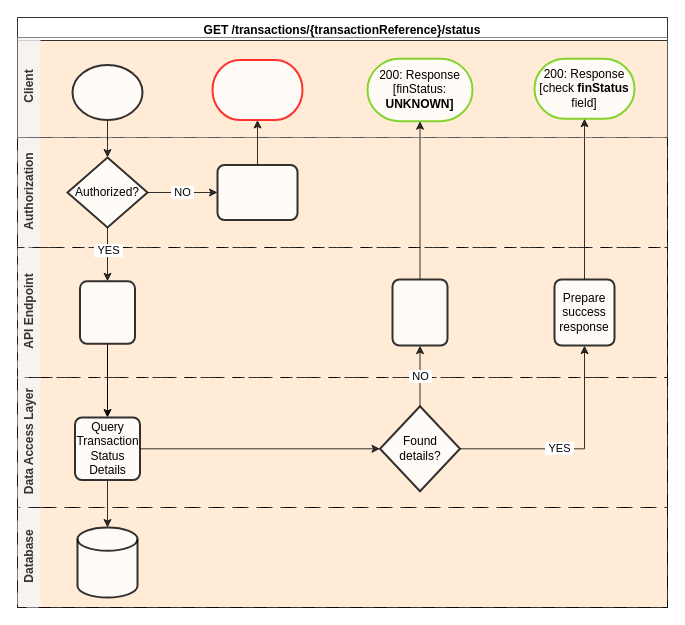
Image size: 685x625. Some labels were removed from this diagram. Here are the shapes that lost their labels. From the top down, the centre of each, then its label:
At (x=107, y=92): "Request".
At (x=257, y=89): "403: Forbidden".
At (x=257, y=192): "Invalid Device (API Key)".
At (x=107, y=312): "Validate request payload!".
At (x=419, y=312): "Prepare error response".
At (x=107, y=562): "DB Handpoint".
